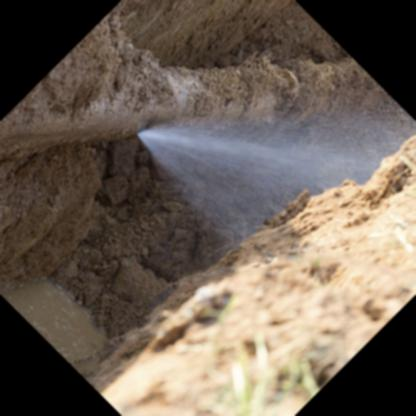burst: (128, 96, 175, 154)
